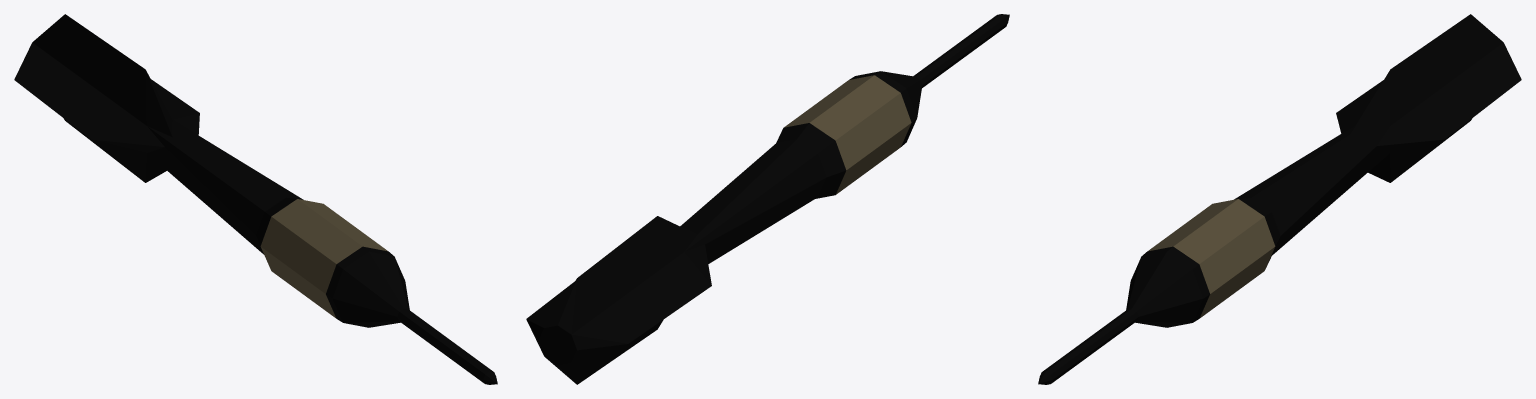
File: Arrow.fbx
3 renders of one model, left to right at view 1: azimuth 30°, elevation 25°; view 2: azimuth 150°, elevation 25°; view 3: azimuth 330°, elevation 25°, orthographic.
Visible parts, largest first — view 1: Arrow; view 2: Arrow; view 3: Arrow.
Boxes of the visible parts, x1,y1,x2,y2 form: Arrow: (14, 14, 497, 384); Arrow: (526, 14, 1009, 384); Arrow: (1038, 14, 1521, 384).
Size of the model in its own units: 1.74 by 1.74 by 12.54.
